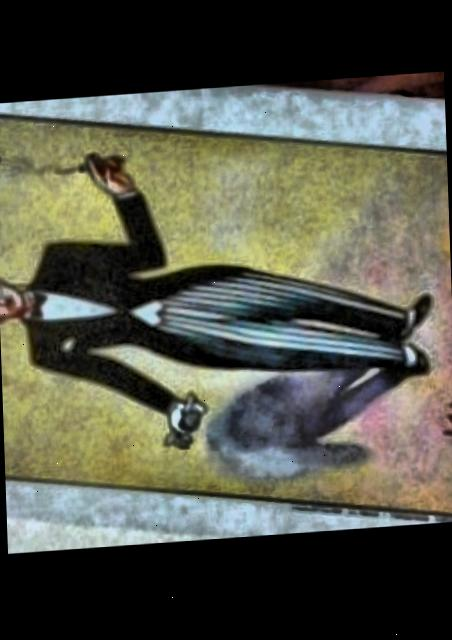El Catrin: (0, 117, 452, 519)
